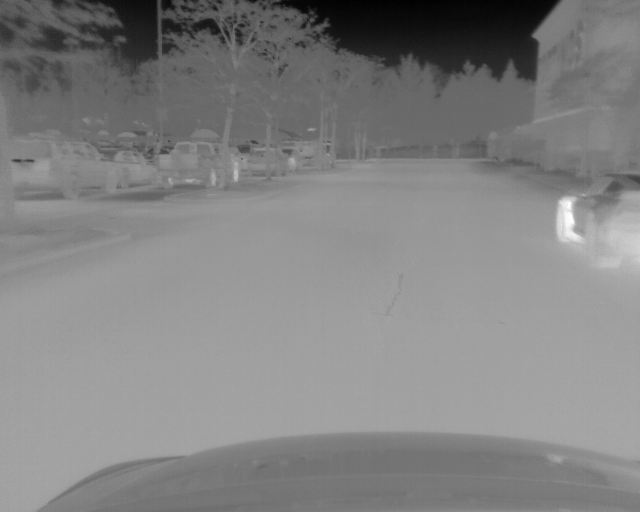car: (553, 171, 640, 269), (2, 135, 118, 197), (155, 140, 241, 190), (101, 146, 156, 195), (291, 140, 335, 173), (245, 146, 290, 178)
